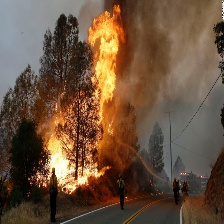fire: (86, 9, 125, 119), (31, 139, 99, 194)
smoke: (116, 1, 223, 174)
